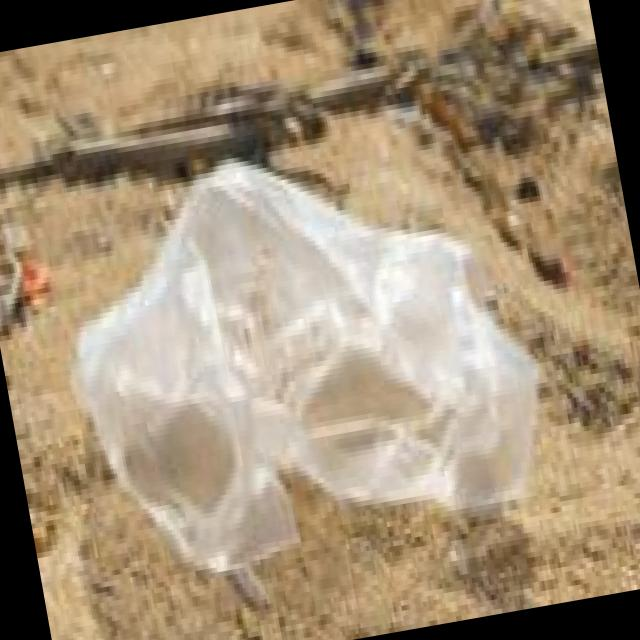general: (35, 107, 568, 606)
